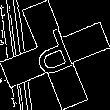P_S: (28, 25, 82, 85)
